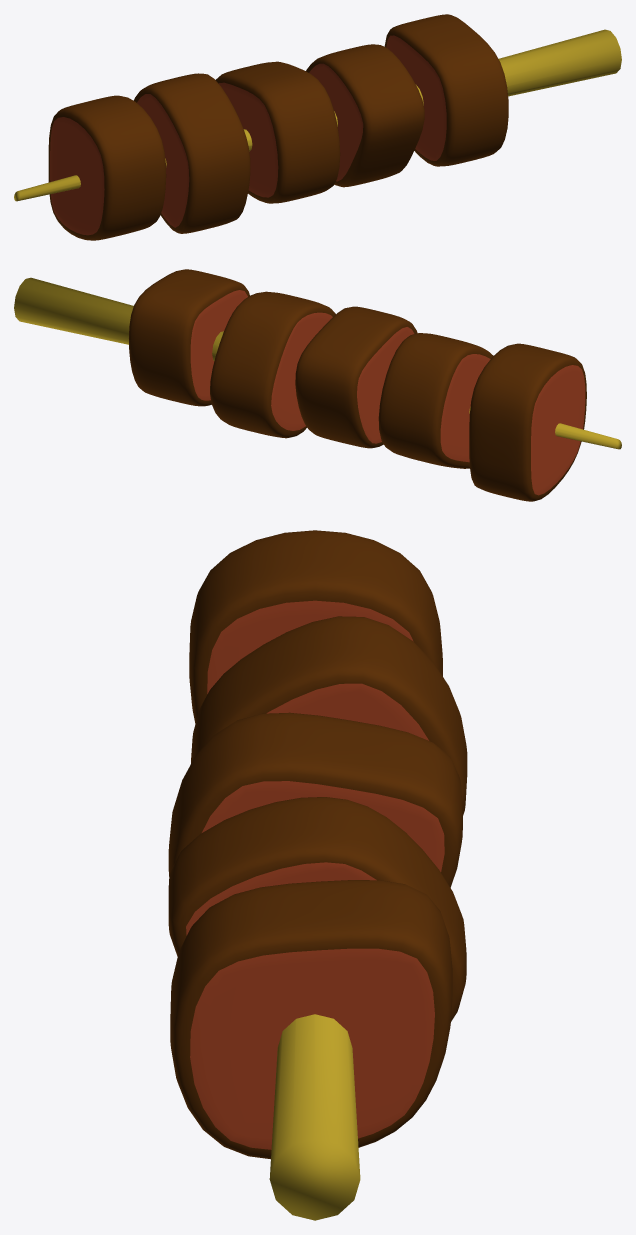
The model's file is MeatSkewer01.fbx.
The picture shows the model from 3 angles, top to bottom: view 1: azimuth 30°, elevation 25°; view 2: azimuth 150°, elevation 25°; view 3: azimuth 270°, elevation 25°; orthographic projection. The views are drawn at different scales.
Parts seen in each view (by area): view 1: MeatSkewer01; view 2: MeatSkewer01; view 3: MeatSkewer01.
Part boxes in pixels (x1,y1,x2,y2): MeatSkewer01: (14,14,621,240); MeatSkewer01: (14,269,621,501); MeatSkewer01: (168,530,467,1220).
Size of the model in its own units: 3030 by 656 by 659.
